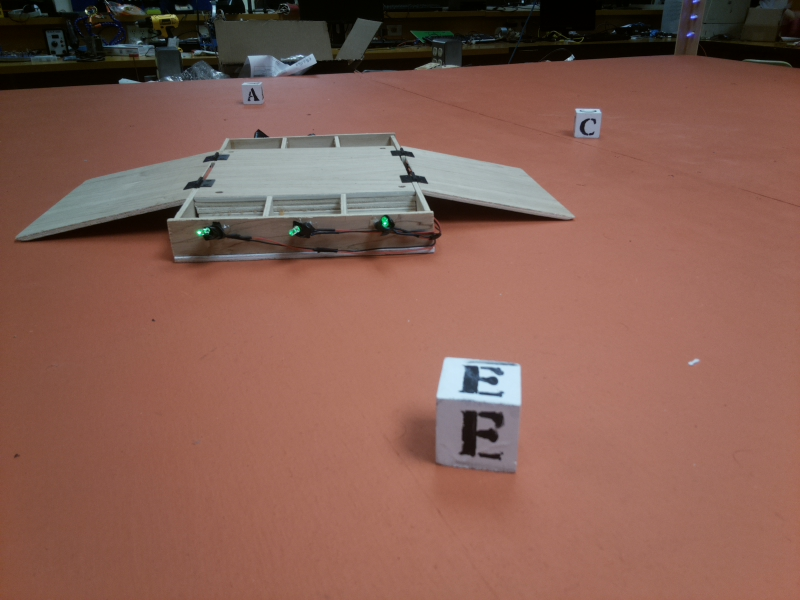blockA: (242, 81, 270, 108)
blockC: (575, 105, 608, 143)
blockE: (429, 353, 523, 480)
corner: (679, 1, 707, 63)
side: (168, 195, 446, 263)
slope: (18, 134, 214, 247), (400, 143, 587, 226)
